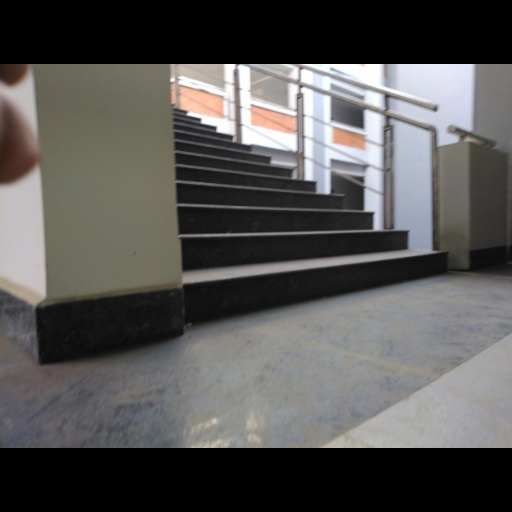Stairs: (174, 112, 446, 322)
